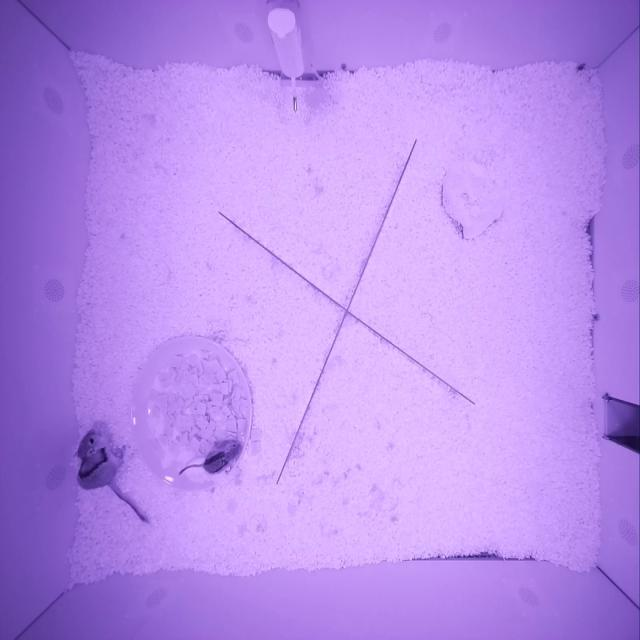adult_front: (73, 428, 123, 489)
pup_v_stripe: (203, 443, 240, 475)
